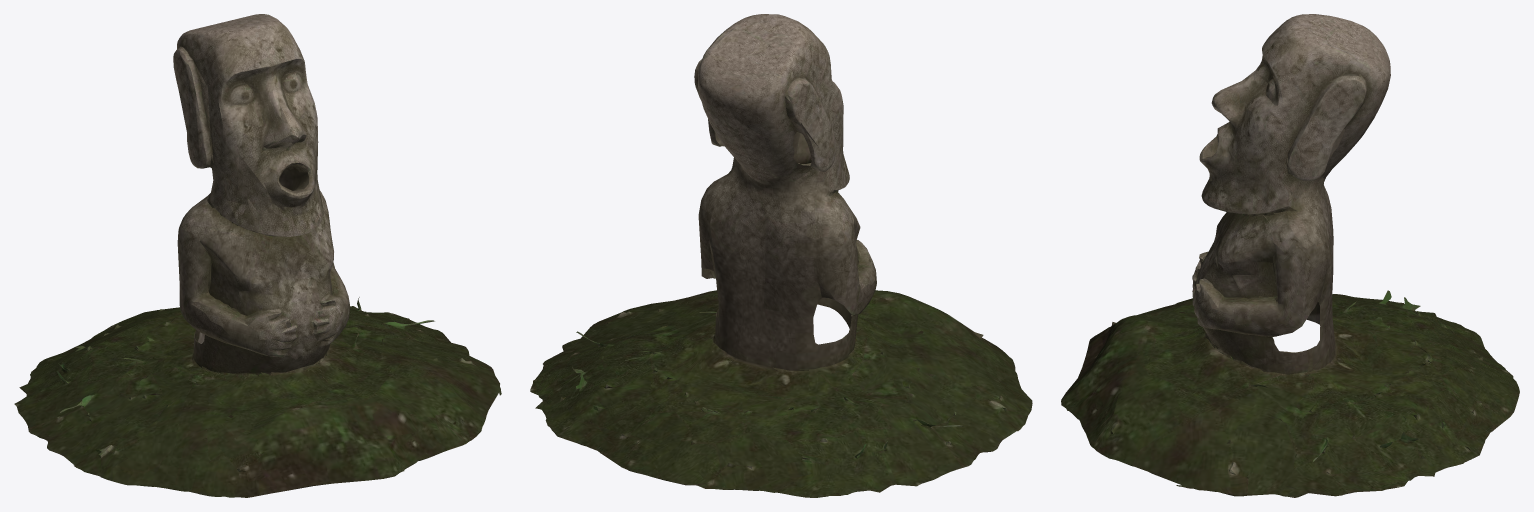
The model's file is statueofmayor-v1.glb.
3 renders of one model, left to right at view 1: azimuth 30°, elevation 25°; view 2: azimuth 150°, elevation 25°; view 3: azimuth 270°, elevation 25°, orthographic. The views are drawn at different scales.
Visible parts, largest first — view 1: output_unwrapped; view 2: output_unwrapped; view 3: output_unwrapped.
Boxes of the visible parts, x1,y1,x2,y2 form: output_unwrapped: (14, 14, 501, 497); output_unwrapped: (530, 14, 1032, 497); output_unwrapped: (1061, 14, 1519, 497).
Bounding box in the file's own units: 1.29 × 1.09 × 1.22.
Materials: 1 (1 with a texture image).
